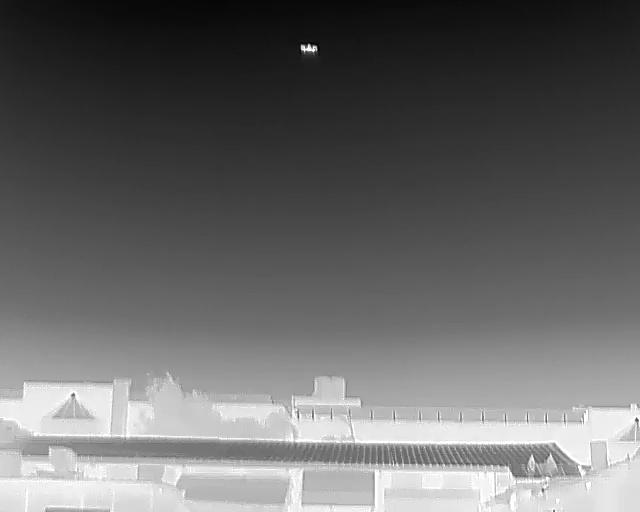fpv-drone: (300, 43, 318, 56)
